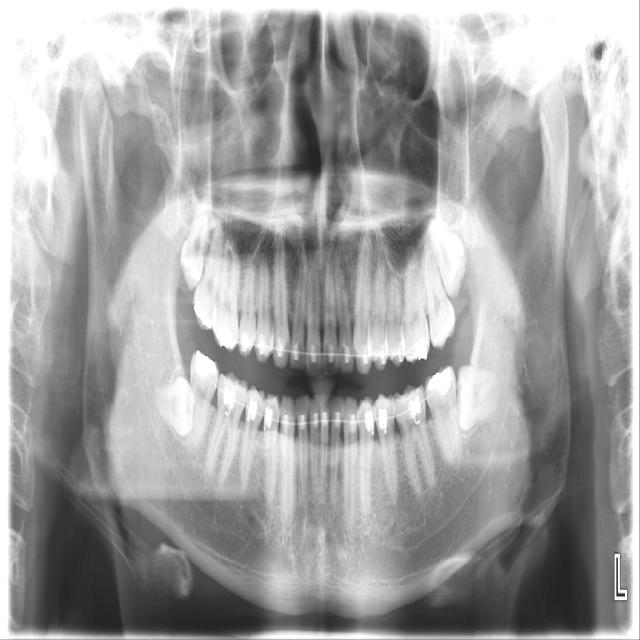Filling: (424, 364, 456, 416), (192, 350, 219, 376), (194, 301, 213, 329)
impacted tooth: (426, 217, 465, 296), (457, 367, 499, 430), (147, 377, 193, 433), (182, 195, 208, 284)
